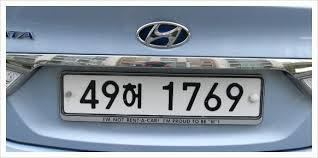plate: (61, 72, 262, 123)
